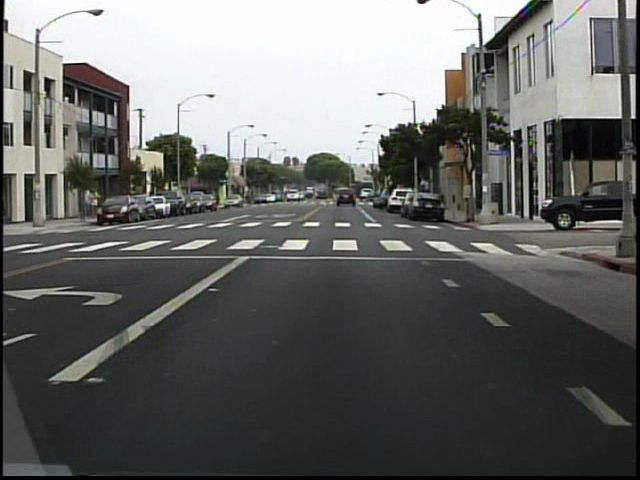car: (540, 177, 638, 230), (404, 192, 446, 222), (96, 195, 137, 222), (336, 187, 357, 208), (225, 191, 242, 207), (285, 189, 302, 202)
striscie pedonali: (14, 237, 541, 257), (92, 223, 464, 230)
